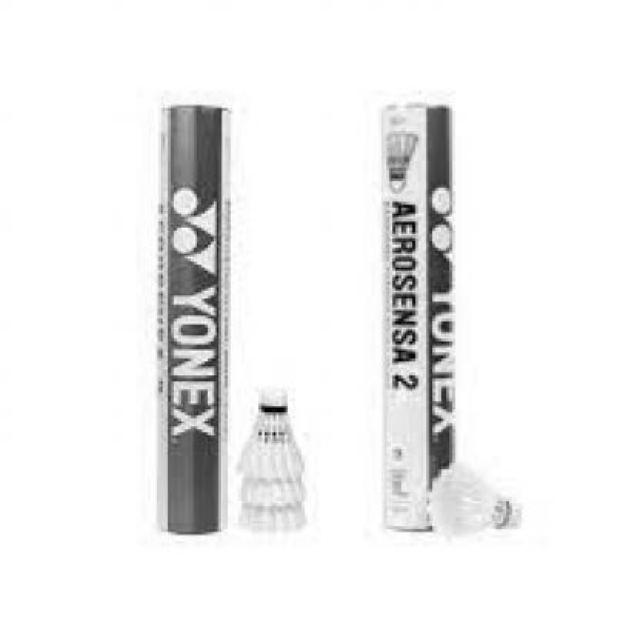Shuttlecock: (428, 468, 523, 546)
